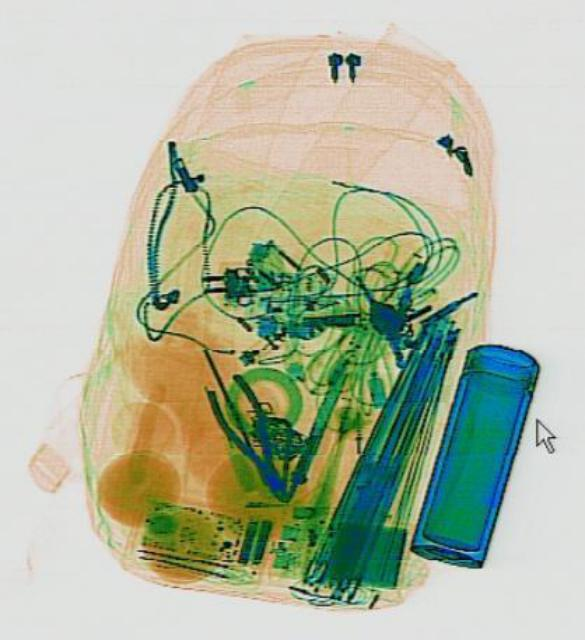Pliers: (198, 368, 303, 512)
